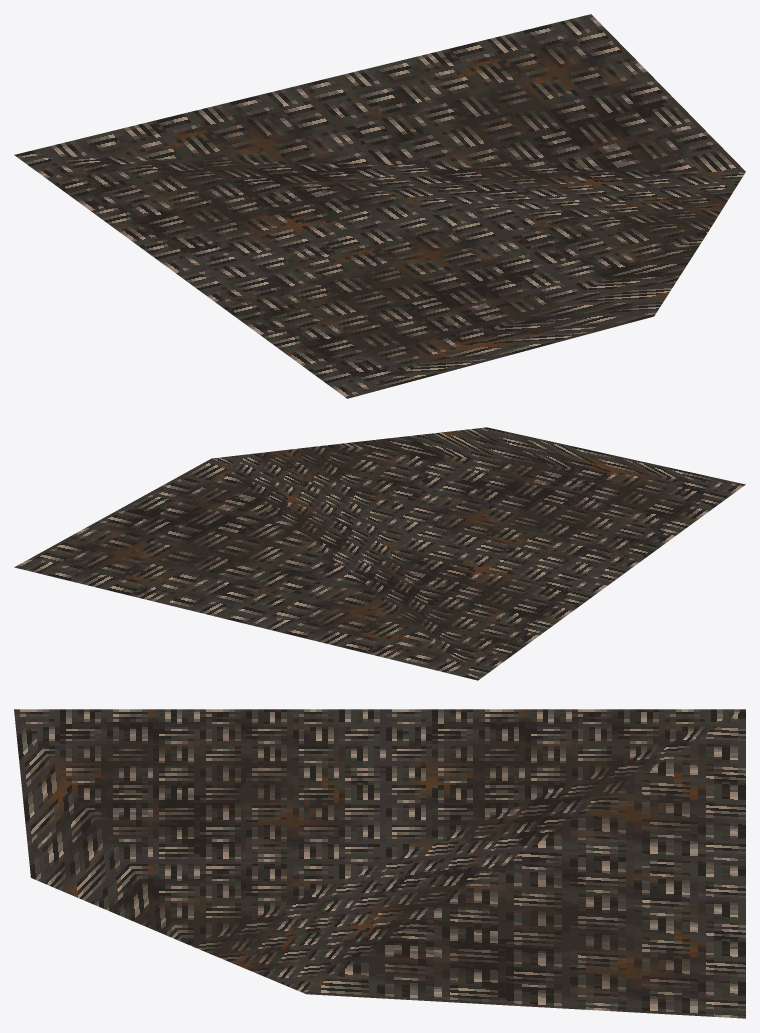
Rendered from Ministerium_BodenMitEckeGroß_2503.glb.
The picture shows the model from 3 angles, top to bottom: view 1: azimuth 30°, elevation 25°; view 2: azimuth 150°, elevation 25°; view 3: azimuth 270°, elevation 25°; orthographic projection. The views are drawn at different scales.
Visible parts, largest first — view 1: polySurfaceShape1018; view 2: polySurfaceShape1018; view 3: polySurfaceShape1018.
Boxes of the visible parts, bbox=[...] form: polySurfaceShape1018: bbox=[14, 14, 745, 398]; polySurfaceShape1018: bbox=[14, 427, 745, 680]; polySurfaceShape1018: bbox=[14, 709, 745, 1018].
Bounding box in the file's own units: 0.5 × 2.19e-08 × 0.5.
1 material, 1 textured.
